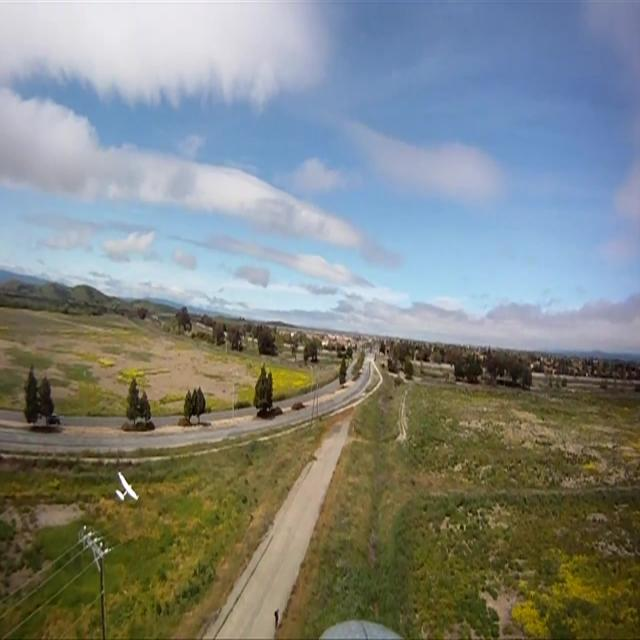iha: (51, 468, 75, 505)
